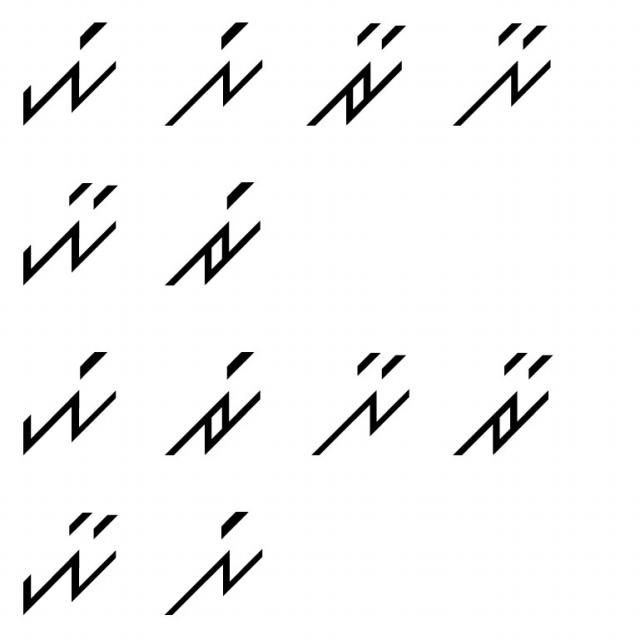lan: (302, 351, 419, 465), (446, 18, 563, 131)
lang: (162, 504, 274, 620), (160, 21, 270, 135)
ran: (299, 16, 416, 132), (445, 345, 560, 461)
rang: (157, 345, 270, 468), (154, 172, 268, 290)
yan: (9, 176, 126, 298), (10, 503, 124, 622)
yang: (17, 340, 125, 466), (13, 12, 122, 132)
